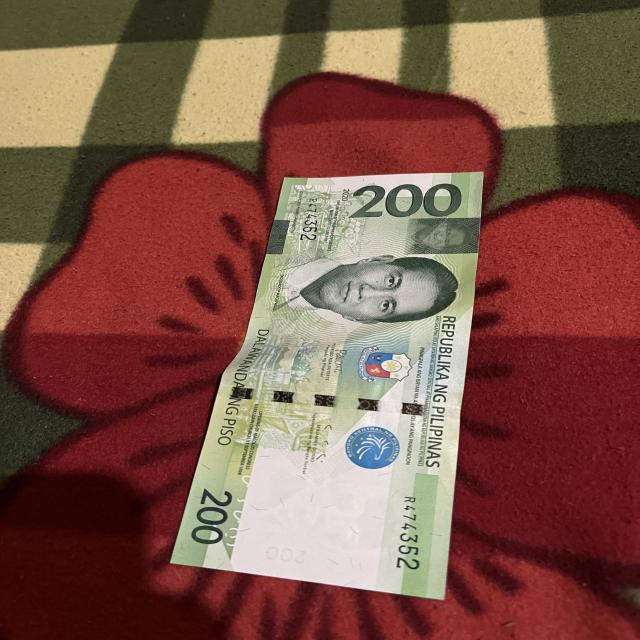concealed_value: (404, 217, 481, 256)
security_thread: (217, 385, 461, 419)
see_through_mark: (217, 469, 270, 552)
serial_number: (392, 495, 422, 572), (297, 195, 320, 243)
value: (347, 182, 464, 218)
value_watermark: (261, 544, 309, 566)
watermark: (251, 461, 391, 566)
